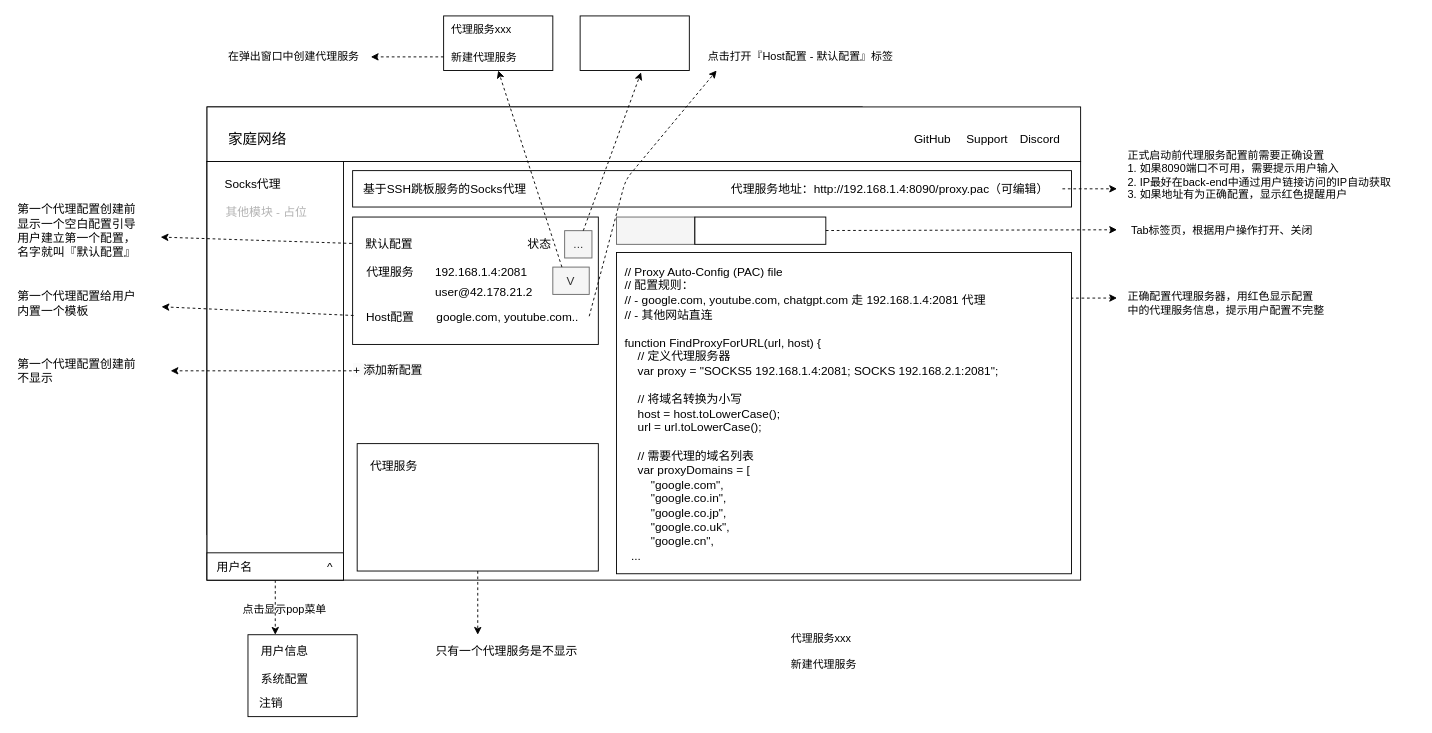
The diagram is 1432 pixels wide and 733 high, and some of its shapes have lost their labels. The box of each missing label's shape, as (x1, y1, x2, y2) in pixels:
Host配置 - 默认配置 x: (694, 216, 826, 244)
PAC配置预览: (616, 216, 695, 244)
停止/启动 删除代理配置: (579, 15, 689, 71)
